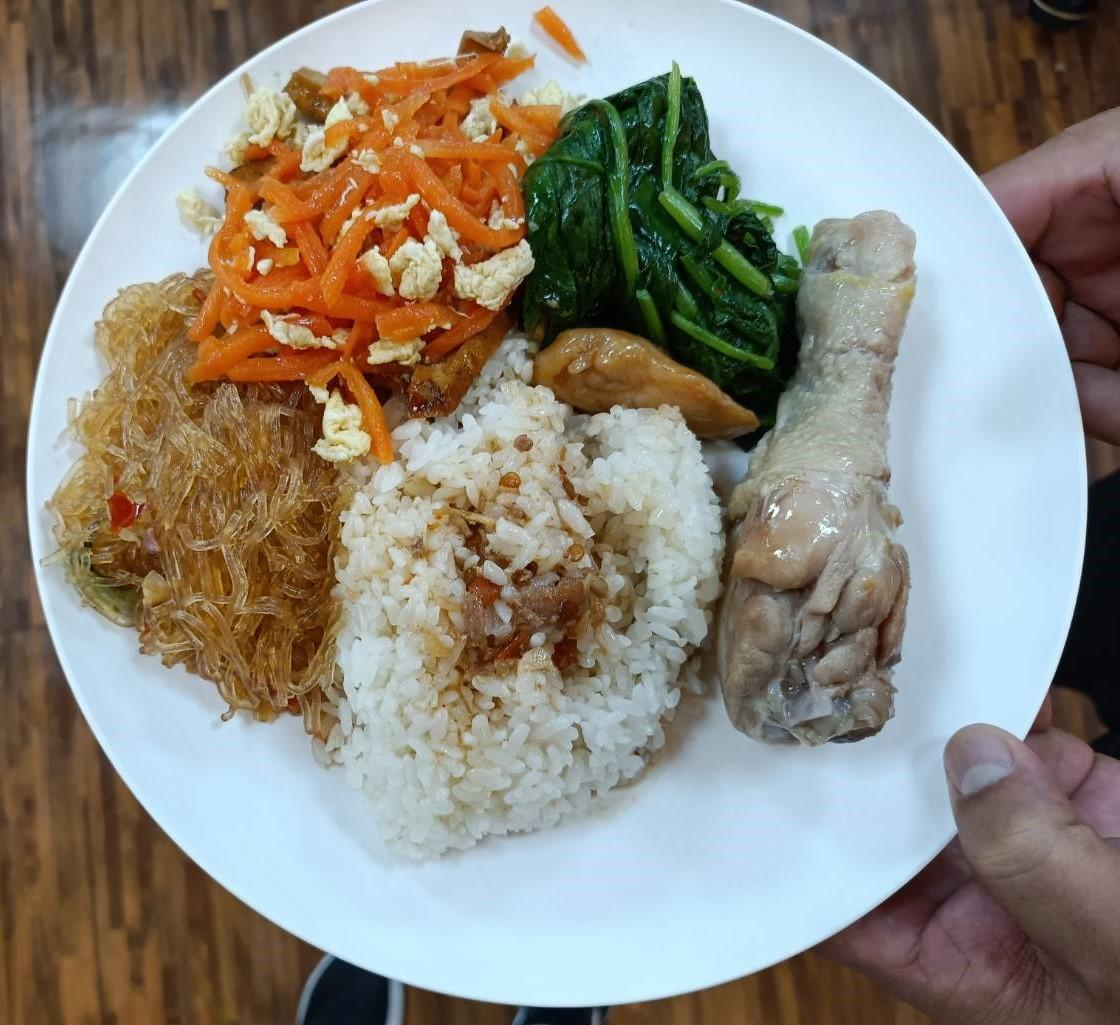big fried chicken leg: (25, 0, 1103, 1001)
big herbal chicken leg: (333, 356, 727, 875)
braised fish fillet: (201, 35, 548, 405), (45, 283, 339, 719), (521, 75, 797, 401)
braised pork: (699, 206, 926, 753)
